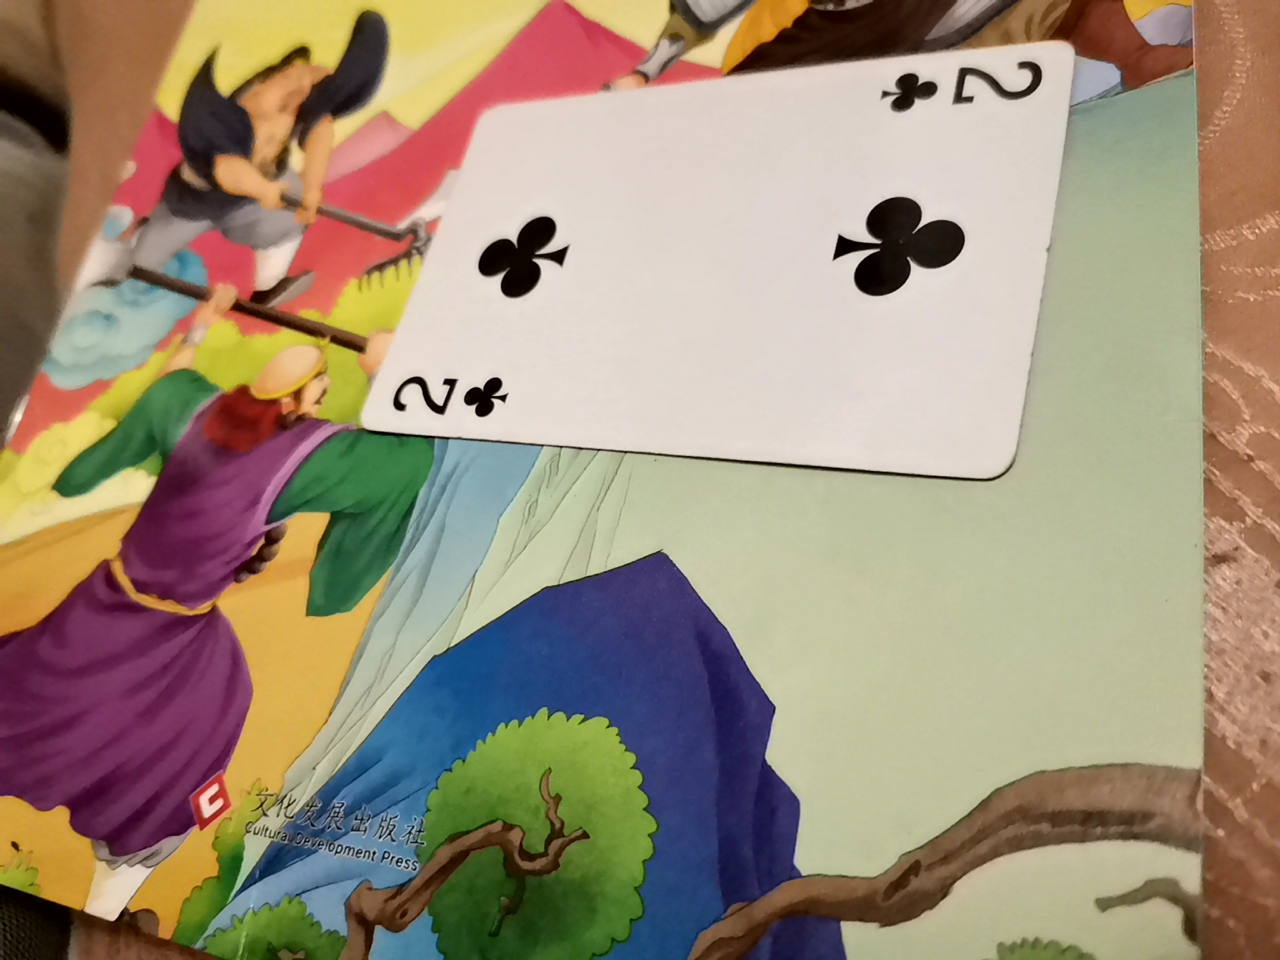mh 2: (387, 58, 1112, 481)
